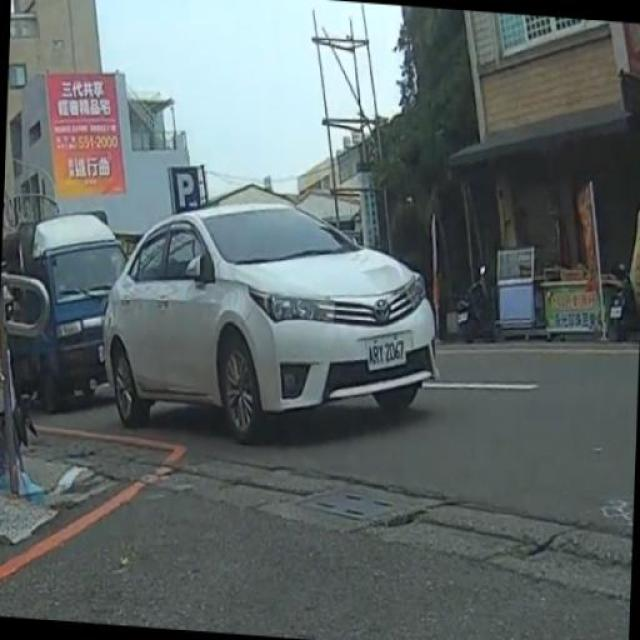Legalparking: (72, 137, 464, 520)
